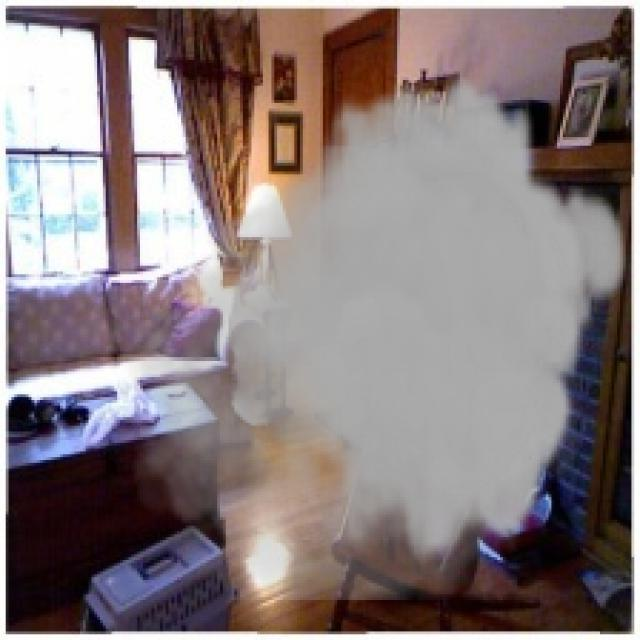Smoke: (117, 71, 632, 600)
